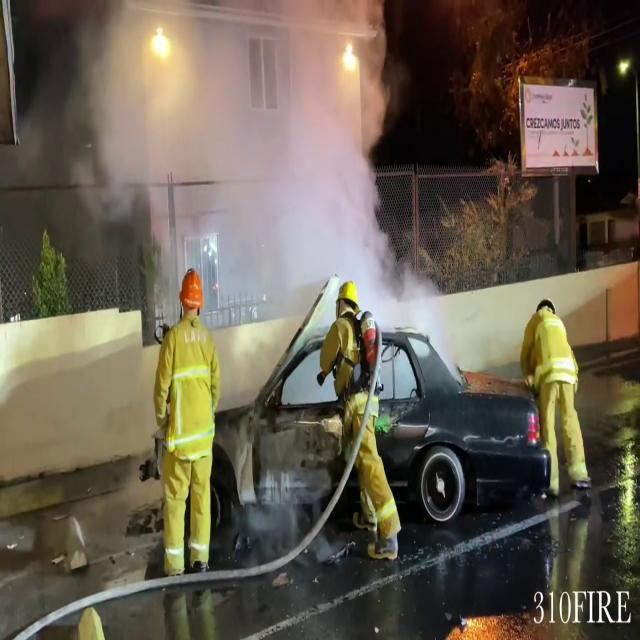Smoke: (44, 1, 424, 298)
